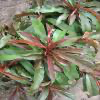Peach leaf: (54, 50, 96, 73), (21, 19, 47, 45), (51, 60, 80, 83), (0, 49, 44, 62), (21, 5, 74, 15), (29, 62, 46, 93), (84, 72, 99, 99), (48, 29, 70, 46), (52, 70, 73, 87), (78, 10, 92, 35)
